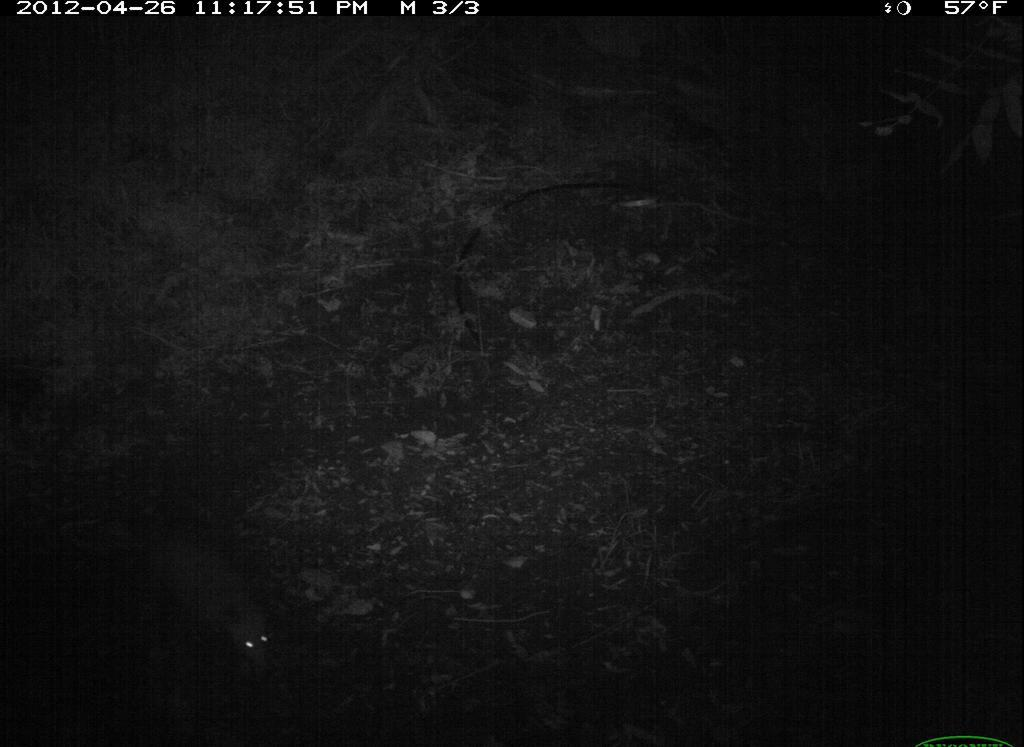opossum: (122, 500, 286, 688)
